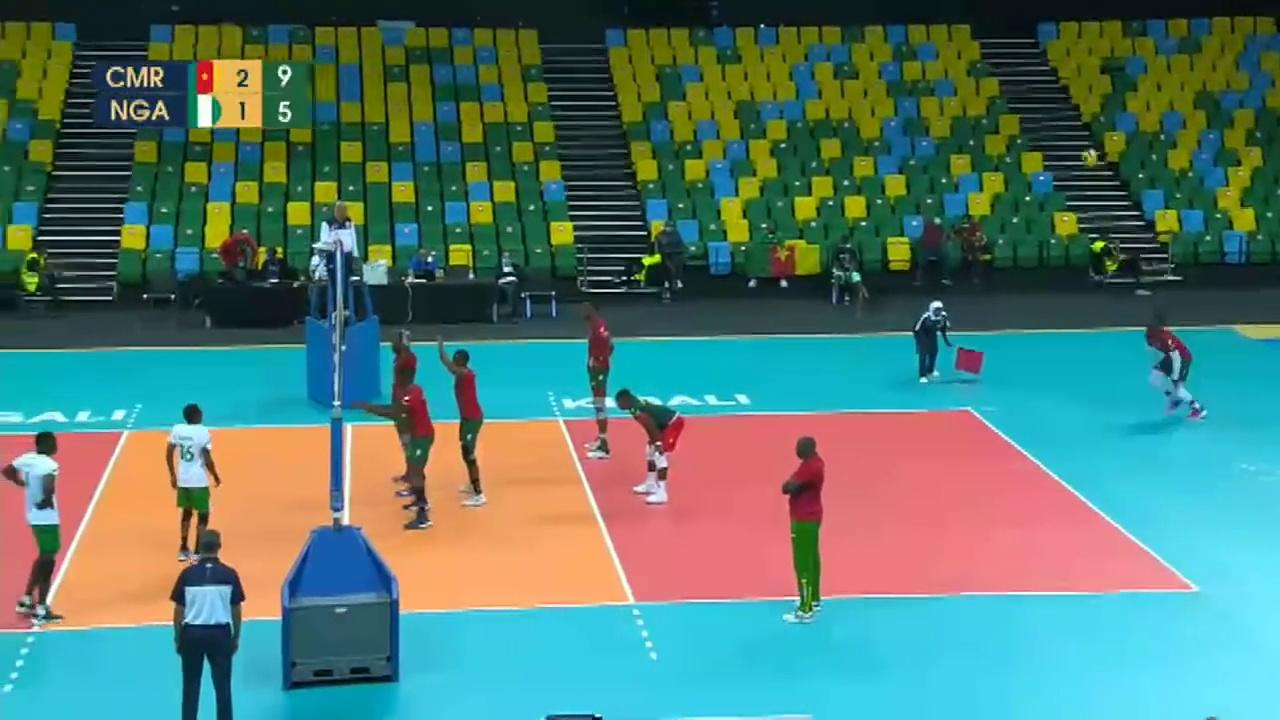player: (1, 436, 66, 619), (439, 345, 502, 508), (616, 384, 690, 516), (163, 396, 218, 556), (394, 369, 444, 535), (572, 295, 619, 464), (383, 330, 421, 484), (1147, 323, 1204, 418)
refree: (167, 525, 248, 720), (319, 200, 366, 303), (917, 299, 956, 386)
